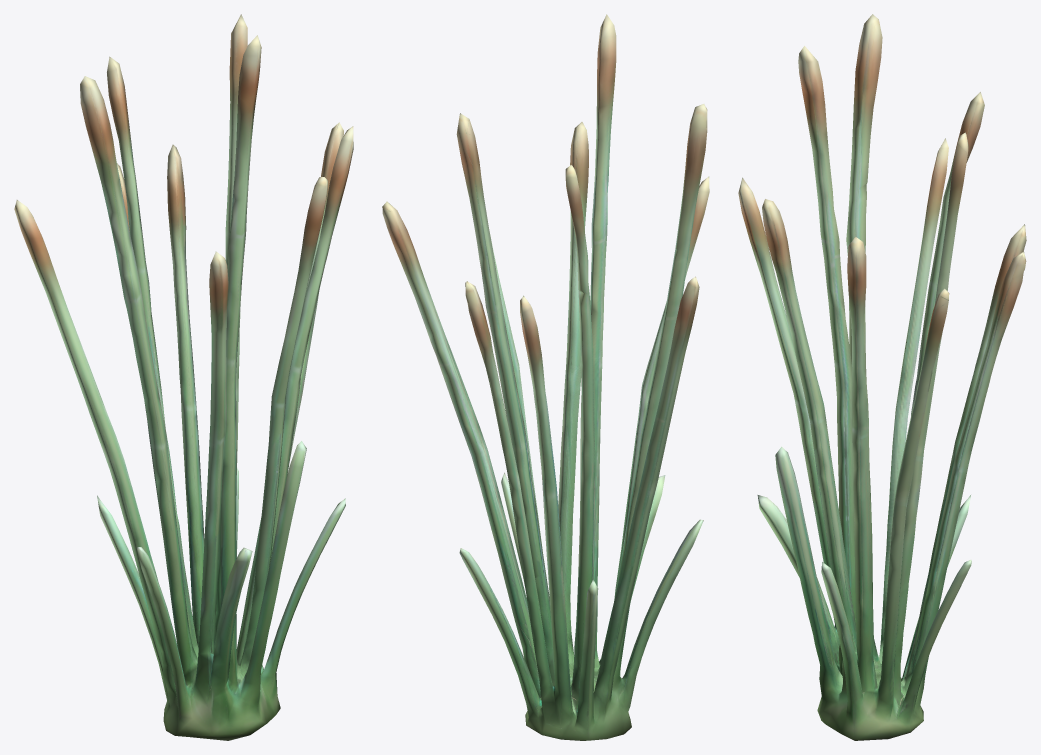
3 views of the same model, side by side, from view 1: azimuth 30°, elevation 25°; view 2: azimuth 150°, elevation 25°; view 3: azimuth 270°, elevation 25° (orthographic). The views are drawn at different scales.
Visible parts, largest first — view 1: Mesh_0; view 2: Mesh_0; view 3: Mesh_0.
Part boxes in pixels (bbox=[...]): Mesh_0: bbox=[14, 14, 353, 740]; Mesh_0: bbox=[382, 14, 709, 740]; Mesh_0: bbox=[738, 14, 1026, 740].
Size of the model in its own units: 0.9105 by 1.92 by 0.732.
1 material, 1 textured.
